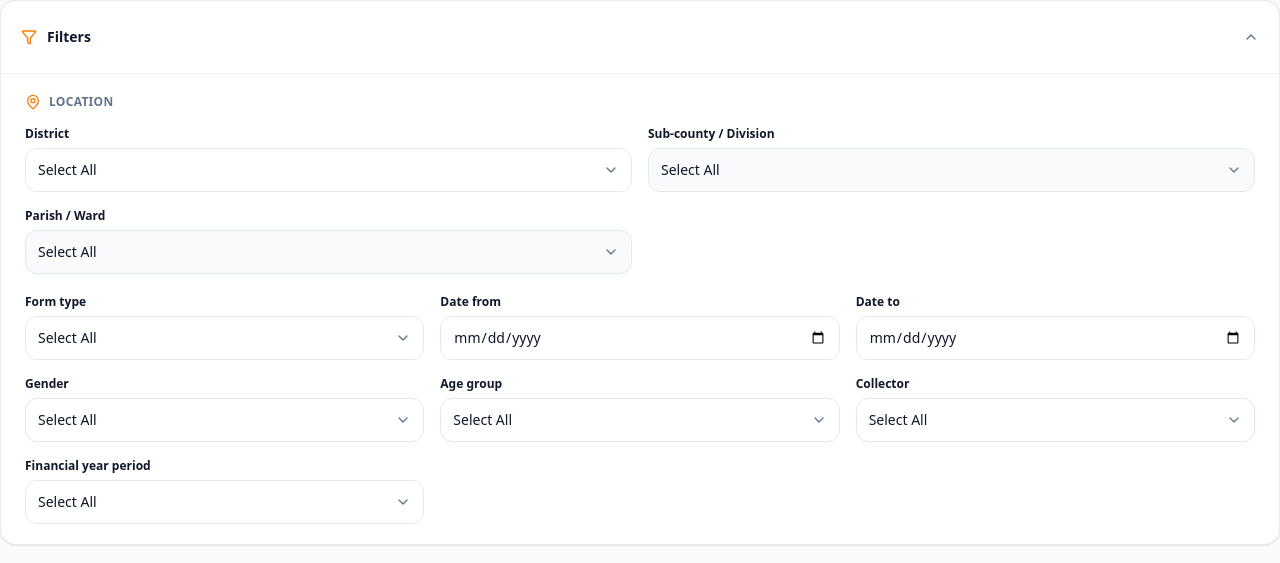
Scenario: DashboardFilterPanel › repopulates sub-counties after a district is selected from dashboard filter options
Click the dropdown named "District" at (67, 170), box [25,148,632,192]
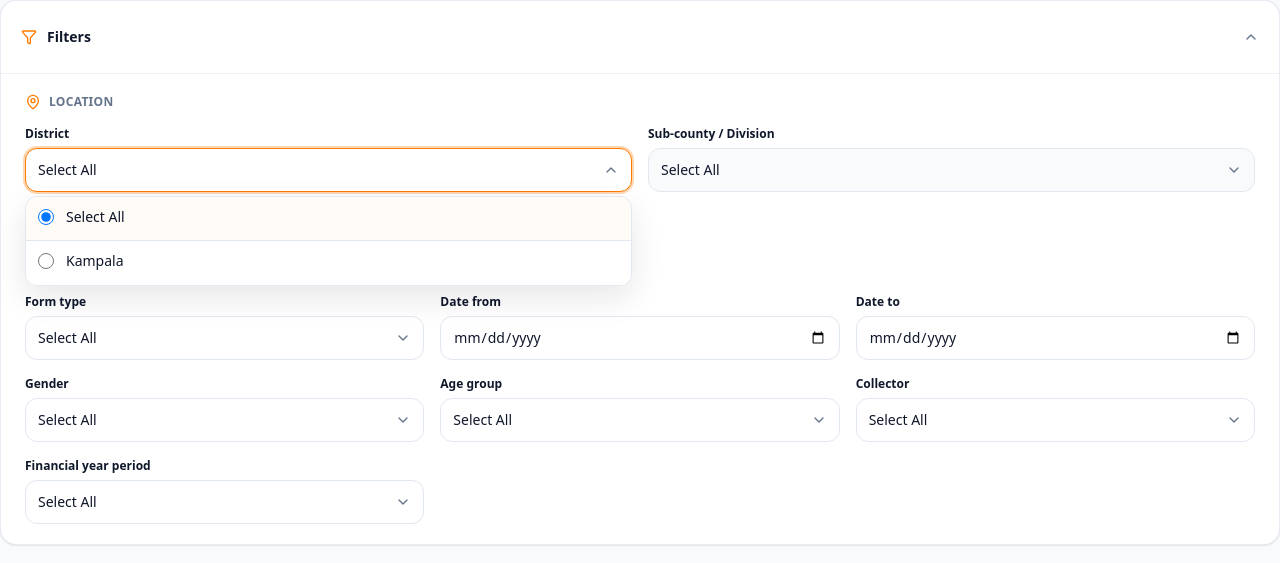
Click the radio button showing "6a4ec61c-d428-4a51-8af0-721f7d03d492" at (46, 261), box [38,253,54,269]
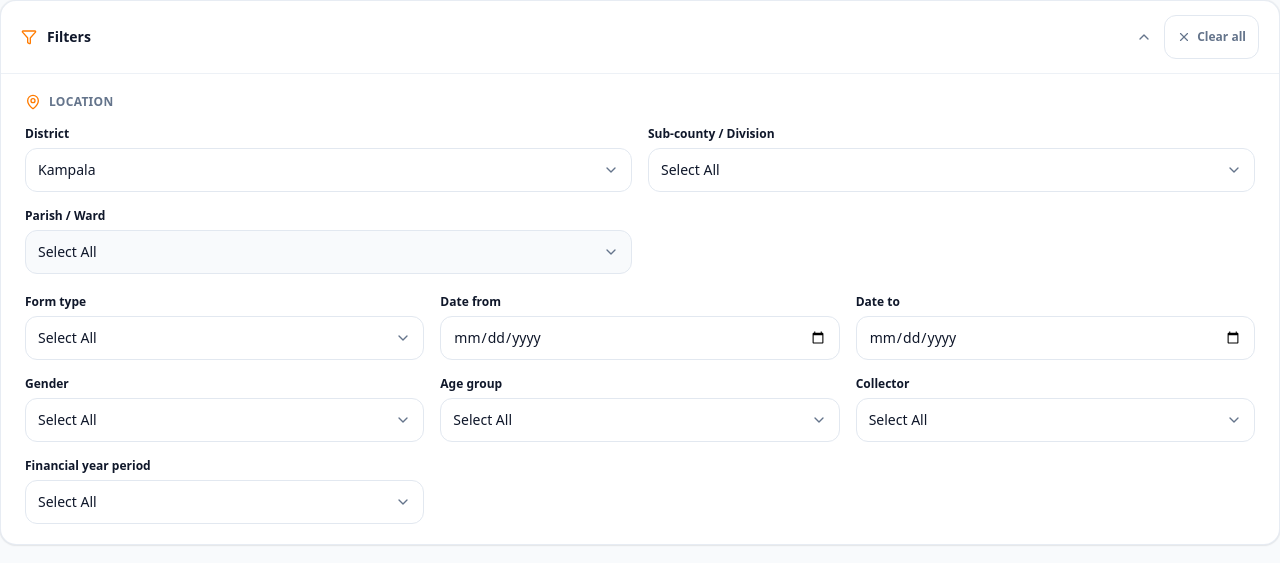
Click the dropdown named "Sub-county" at (690, 170), box [648,148,1255,192]
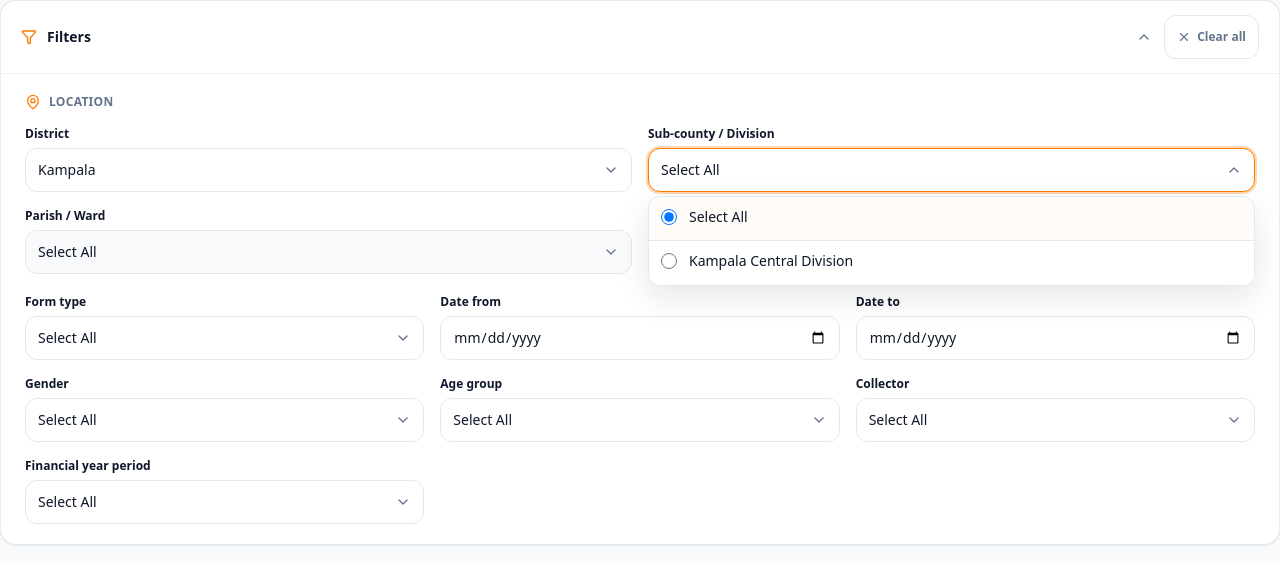
Now the radio button labelled "Kampala Central Division" is shown, box [661,253,677,269]
